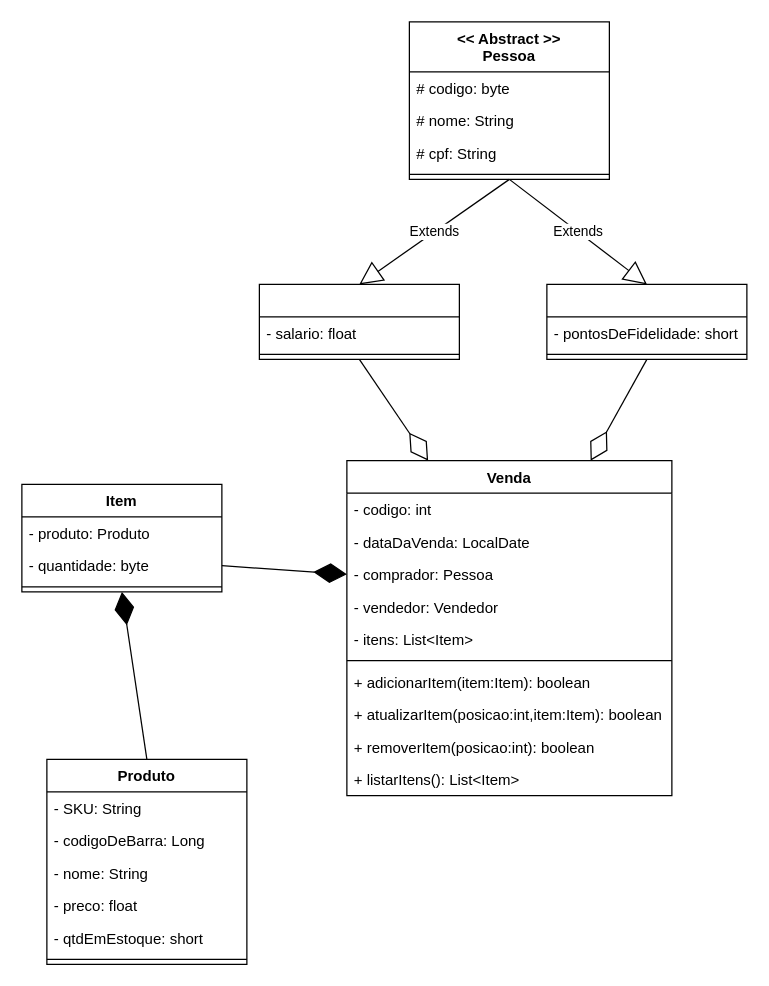
Image size: 769x986. Some labels were removed from this diagram. Each missing label, with the box of its shape:
Cliente: (546, 283, 747, 359)
Vendedor: (258, 283, 459, 359)
